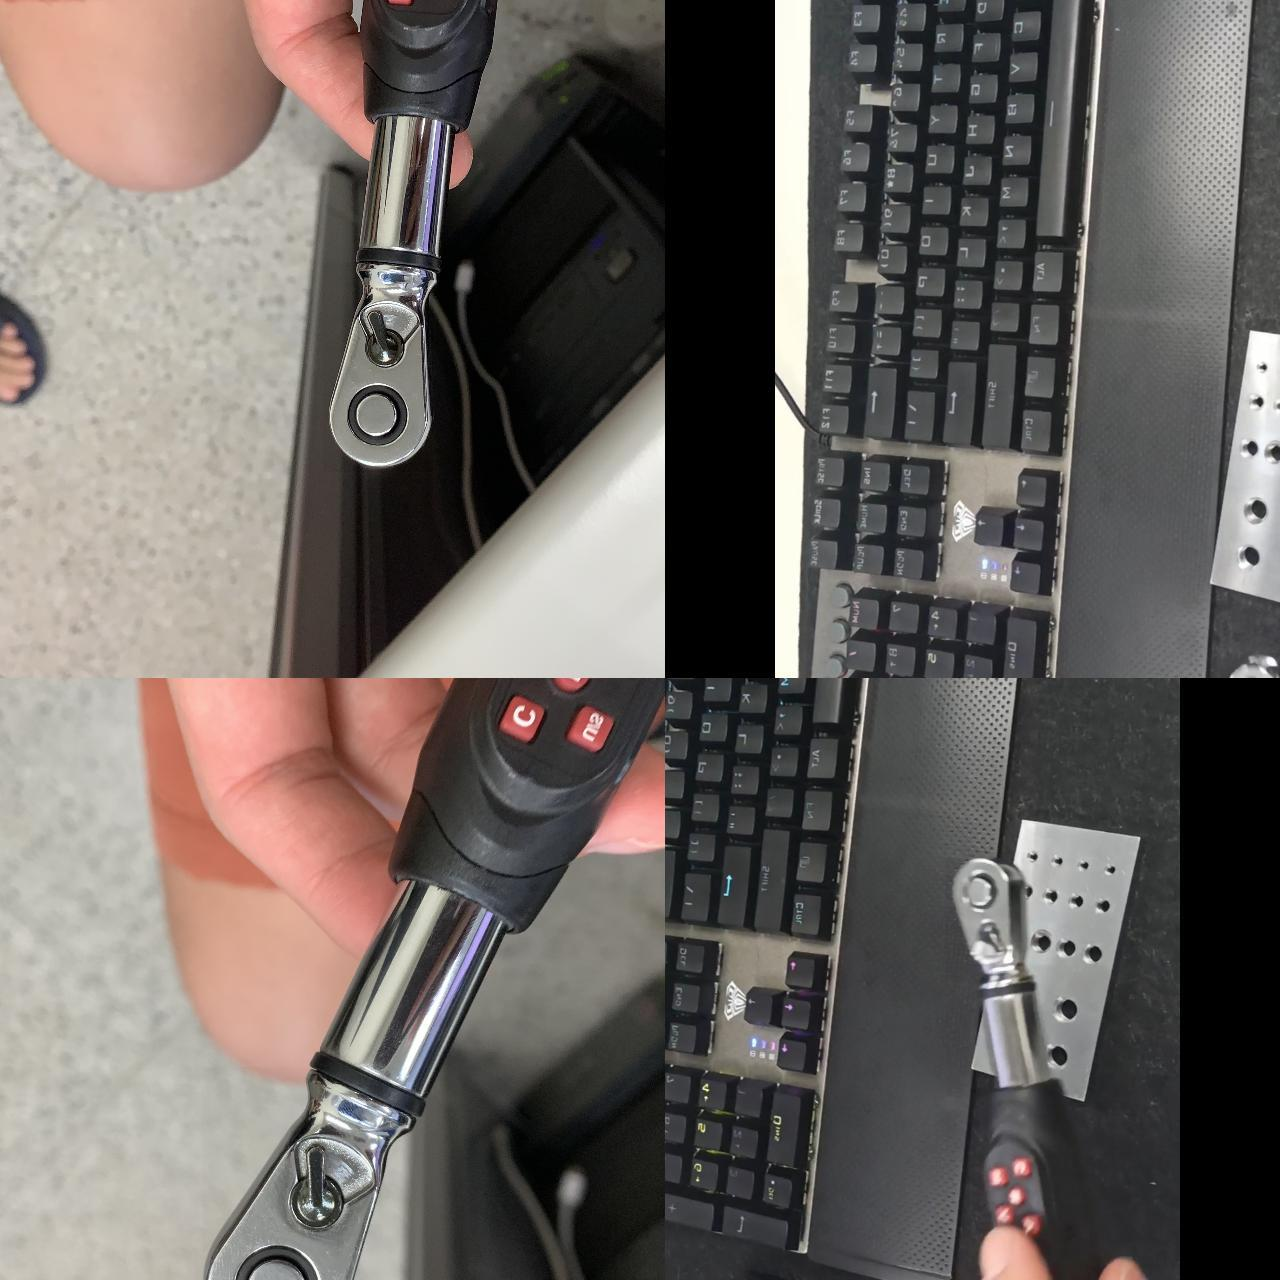Tool: (199, 1071, 413, 1280), (327, 263, 433, 471), (948, 853, 1027, 980), (1234, 654, 1279, 678)
hole: (1235, 542, 1262, 576), (1051, 994, 1078, 1023), (1029, 928, 1054, 955), (1047, 1041, 1070, 1068), (1244, 498, 1267, 524), (1082, 945, 1103, 966), (1056, 938, 1076, 959), (1240, 438, 1259, 458), (1096, 896, 1114, 917), (1041, 887, 1058, 906), (1267, 442, 1280, 465), (1101, 862, 1118, 878), (1250, 393, 1265, 411), (1069, 892, 1084, 910), (1076, 858, 1092, 873), (1048, 856, 1065, 870), (1028, 850, 1041, 863), (1259, 359, 1268, 374)
